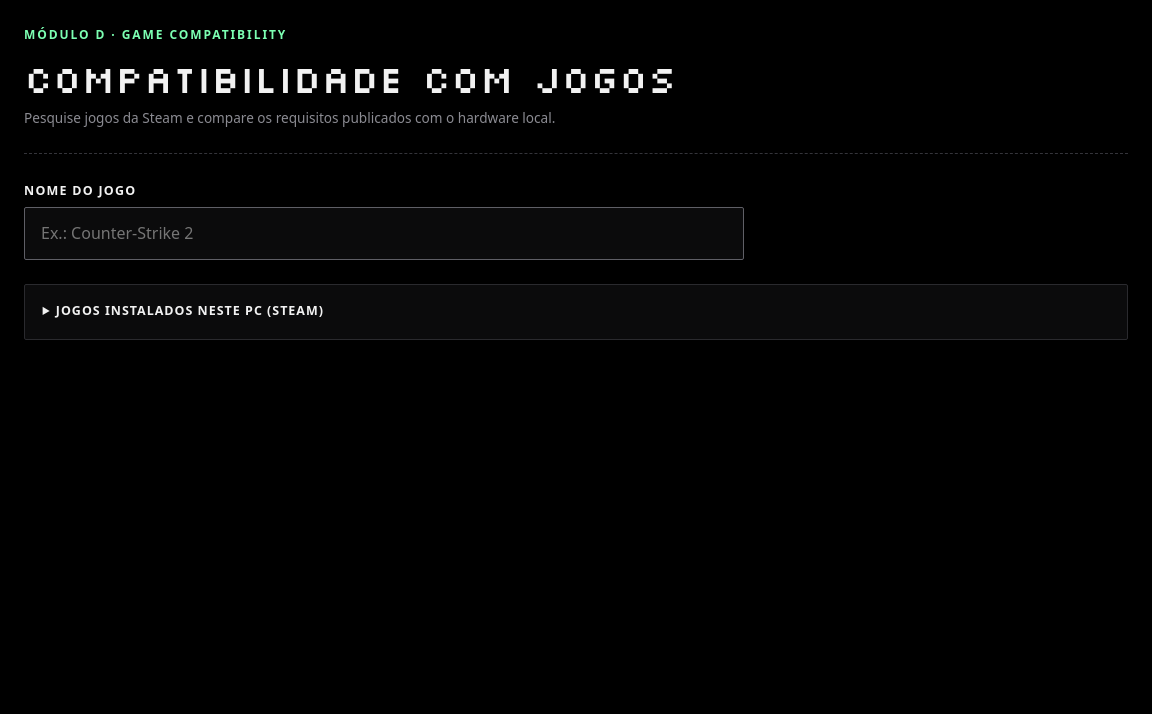
it: GameCompatibilityPage › CPU comparada por benchmark mostra a confiança e a fonte
Step 1. Type "Jogo" into the field labelled "Nome do jogo" → (384, 233), box left=24, top=207, right=744, bottom=260
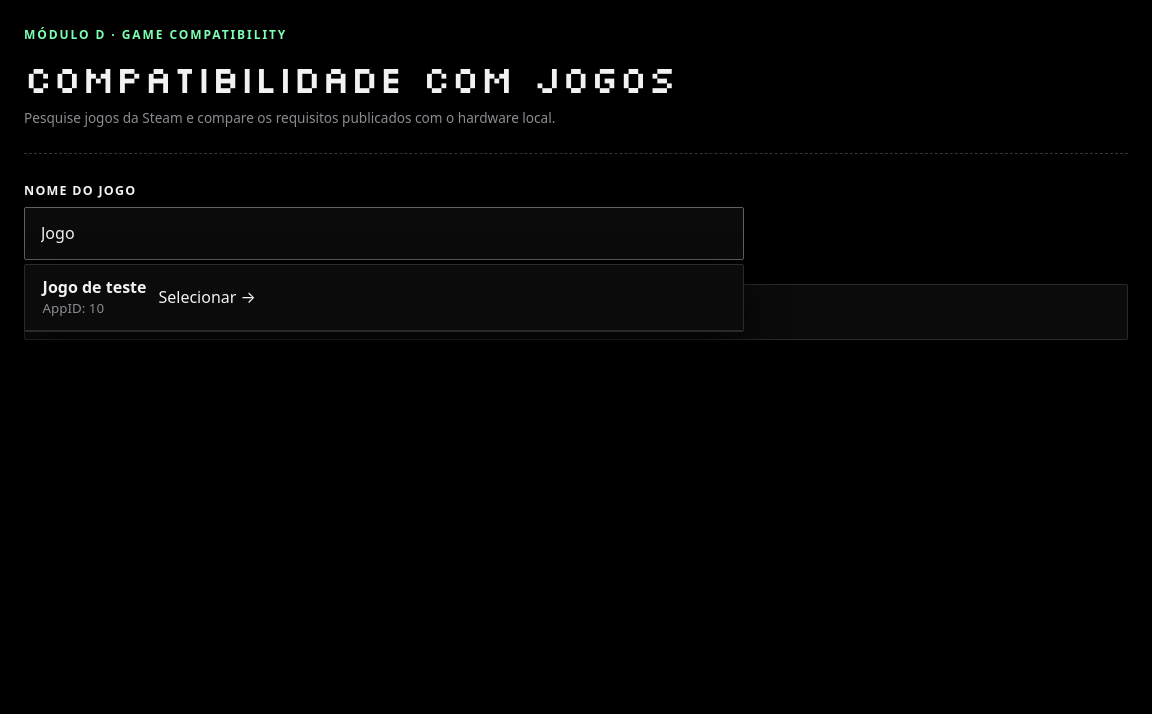
Step 2. Click the button "Jogo de teste AppID: 10 Selecionar →" → (95, 287), box left=25, top=265, right=743, bottom=331
(page scrolled)
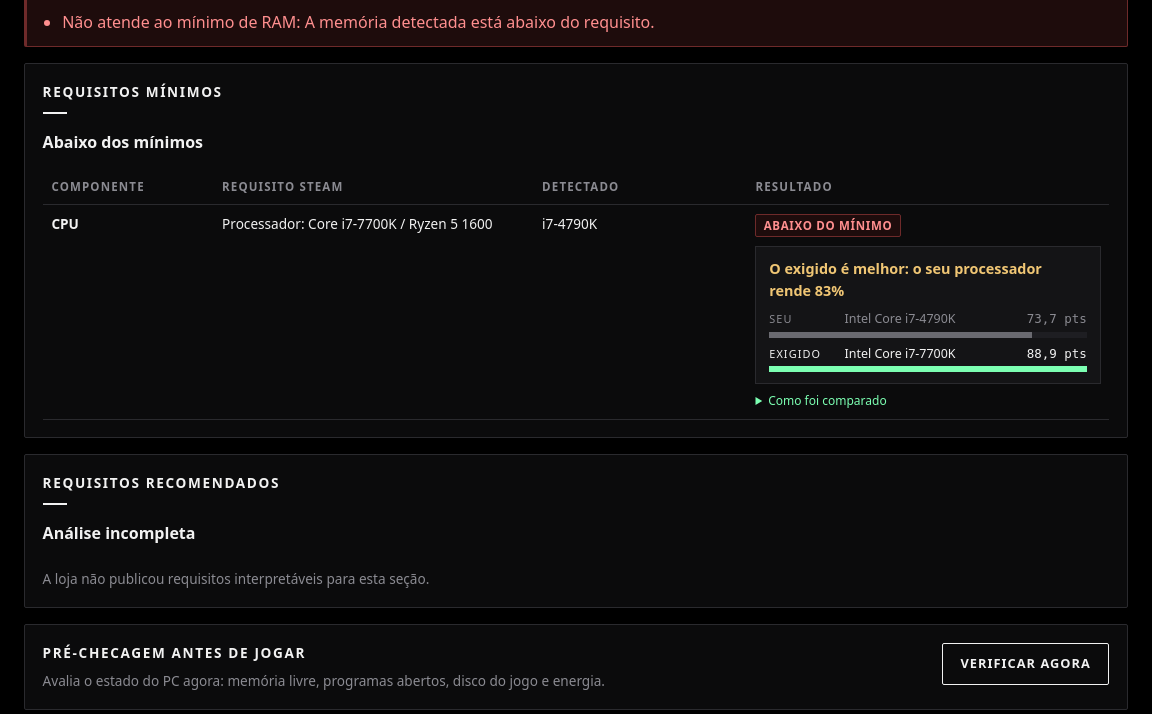
Now the text "O exigido é melhor: o seu processador rende 83%" is shown, box left=769, top=258, right=1087, bottom=302
Now the text "73,7 pts" is shown, box left=1027, top=310, right=1087, bottom=329
Now the text "88,9 pts" is shown, box left=1027, top=345, right=1087, bottom=363
